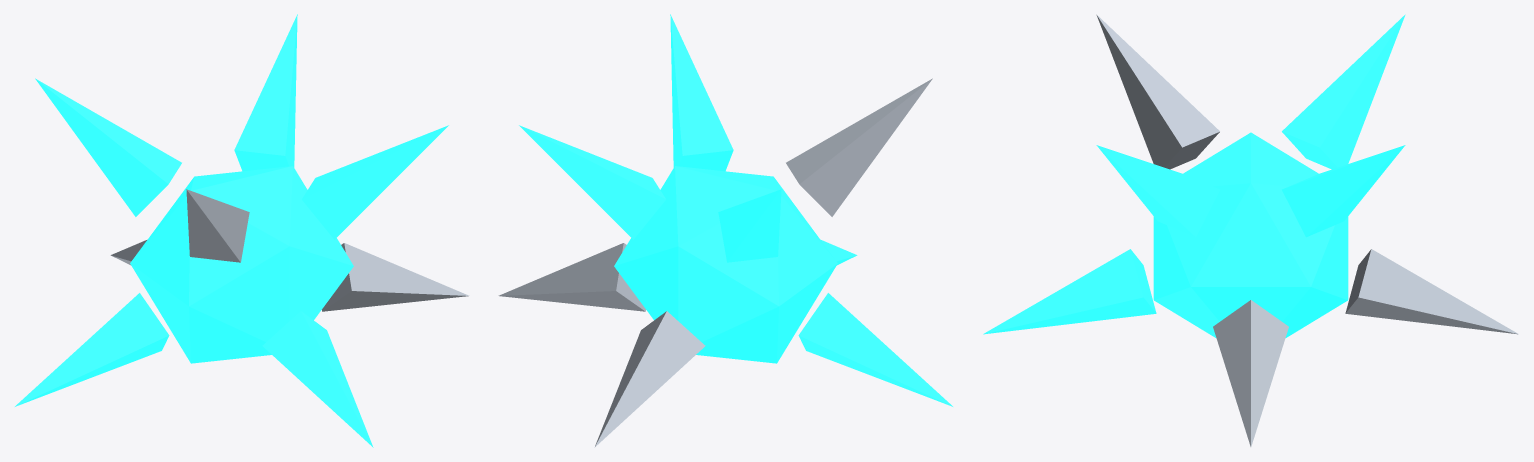
Rendered from vfx_impact_skywatch.glb.
3 renders of one model, left to right at view 1: azimuth 30°, elevation 25°; view 2: azimuth 150°, elevation 25°; view 3: azimuth 270°, elevation 25°, orthographic. The views are drawn at different scales.
Visible parts, largest first — view 1: vfx_impact_skywatch_core, vfx_impact_skywatch_shard5, vfx_impact_skywatch_shard4, vfx_impact_skywatch_shard1, vfx_impact_skywatch_shard7, vfx_impact_skywatch_shard2, vfx_impact_skywatch_shard0, vfx_impact_skywatch_shard3; view 2: vfx_impact_skywatch_core, vfx_impact_skywatch_shard3, vfx_impact_skywatch_shard4, vfx_impact_skywatch_shard7, vfx_impact_skywatch_shard1, vfx_impact_skywatch_shard6, vfx_impact_skywatch_shard0, vfx_impact_skywatch_shard5; view 3: vfx_impact_skywatch_core, vfx_impact_skywatch_shard3, vfx_impact_skywatch_shard5, vfx_impact_skywatch_shard2, vfx_impact_skywatch_shard6, vfx_impact_skywatch_shard0, vfx_impact_skywatch_shard1, vfx_impact_skywatch_shard7.
Boxes of the visible parts, bbox=[...] form: vfx_impact_skywatch_core: bbox=[130, 166, 353, 363]; vfx_impact_skywatch_shard5: bbox=[35, 78, 181, 216]; vfx_impact_skywatch_shard4: bbox=[15, 293, 169, 406]; vfx_impact_skywatch_shard1: bbox=[302, 125, 448, 239]; vfx_impact_skywatch_shard7: bbox=[234, 14, 297, 171]; vfx_impact_skywatch_shard2: bbox=[262, 311, 373, 447]; vfx_impact_skywatch_shard0: bbox=[322, 243, 469, 311]; vfx_impact_skywatch_shard3: bbox=[186, 189, 249, 262]; vfx_impact_skywatch_core: bbox=[614, 166, 837, 363]; vfx_impact_skywatch_shard3: bbox=[786, 78, 932, 216]; vfx_impact_skywatch_shard4: bbox=[798, 293, 952, 406]; vfx_impact_skywatch_shard7: bbox=[519, 125, 665, 239]; vfx_impact_skywatch_shard1: bbox=[670, 14, 733, 171]; vfx_impact_skywatch_shard6: bbox=[594, 311, 705, 447]; vfx_impact_skywatch_shard0: bbox=[498, 243, 645, 311]; vfx_impact_skywatch_shard5: bbox=[718, 189, 781, 262]; vfx_impact_skywatch_core: bbox=[1153, 132, 1348, 337]; vfx_impact_skywatch_shard3: bbox=[1096, 14, 1219, 169]; vfx_impact_skywatch_shard5: bbox=[1282, 14, 1405, 169]; vfx_impact_skywatch_shard2: bbox=[983, 249, 1156, 334]; vfx_impact_skywatch_shard6: bbox=[1345, 249, 1518, 334]; vfx_impact_skywatch_shard0: bbox=[1213, 300, 1288, 446]; vfx_impact_skywatch_shard1: bbox=[1096, 145, 1219, 237]; vfx_impact_skywatch_shard7: bbox=[1282, 145, 1405, 237].
Bounding box in the file's own units: 0.5638 × 0.2954 × 0.5638.
